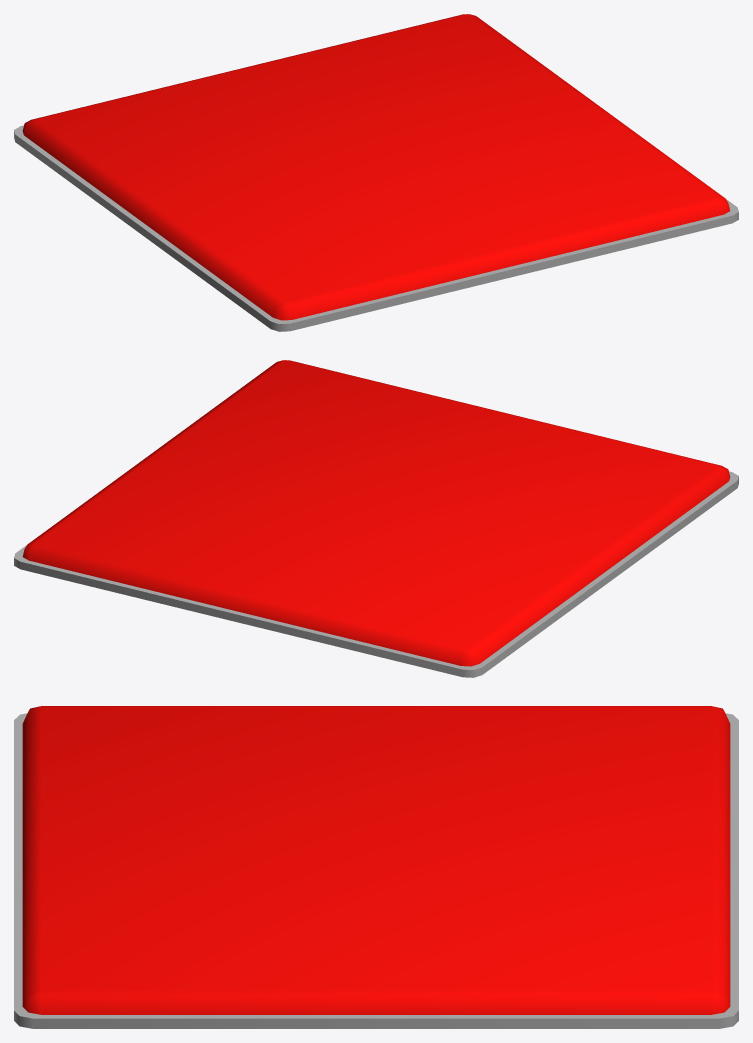
Rendered from Button.fbx.
3 views of the same model, one above another, from view 1: azimuth 30°, elevation 25°; view 2: azimuth 150°, elevation 25°; view 3: azimuth 270°, elevation 25° (orthographic). The views are drawn at different scales.
Parts seen in each view (by area): view 1: sensor; view 2: sensor; view 3: sensor.
Part boxes in pixels (x1=…): sensor: x1=14, y1=14, x2=738, y2=331; sensor: x1=14, y1=360, x2=738, y2=677; sensor: x1=14, y1=706, x2=738, y2=1028.
Bounding box in the file's own units: 1 × 0.0423 × 1.
